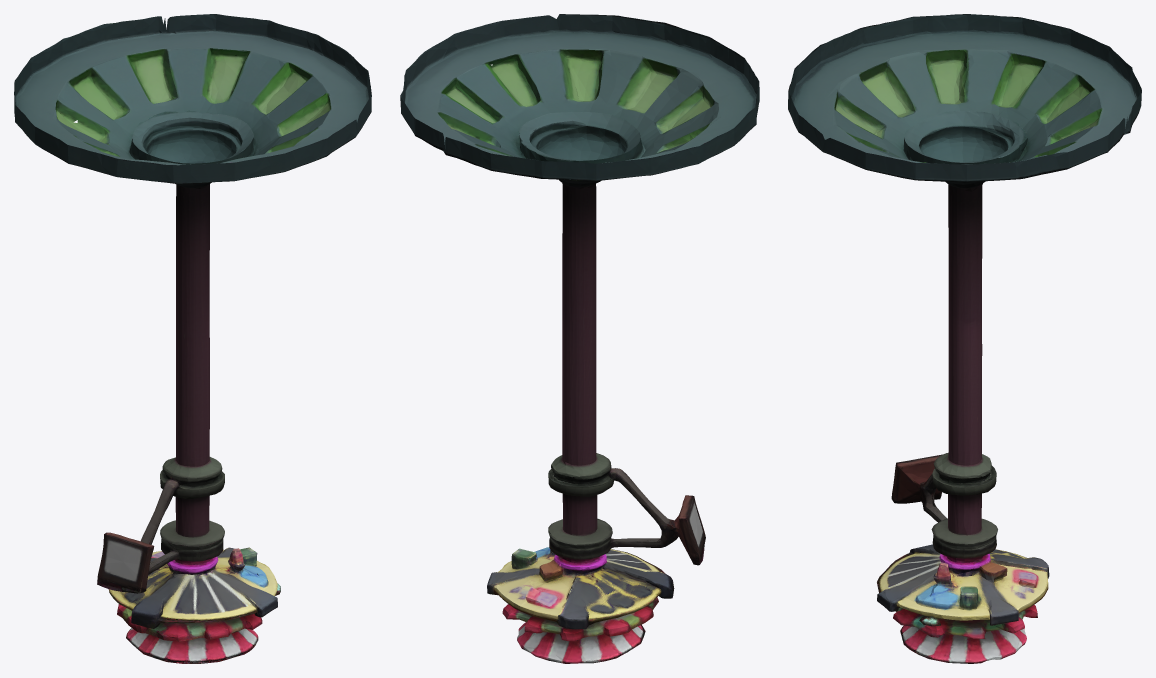
Rendered from source.glb.
The picture shows the model from 3 angles, left to right: view 1: azimuth 30°, elevation 25°; view 2: azimuth 150°, elevation 25°; view 3: azimuth 270°, elevation 25°; orthographic projection.
Visible parts, largest first — view 1: world; view 2: world; view 3: world.
Part boxes in pixels (bbox=[...]): world: bbox=[14, 14, 371, 663]; world: bbox=[400, 14, 759, 663]; world: bbox=[788, 14, 1141, 663].
Bounding box in the file's own units: 0.59 × 0.9987 × 0.5841.
1 material, 1 textured.
